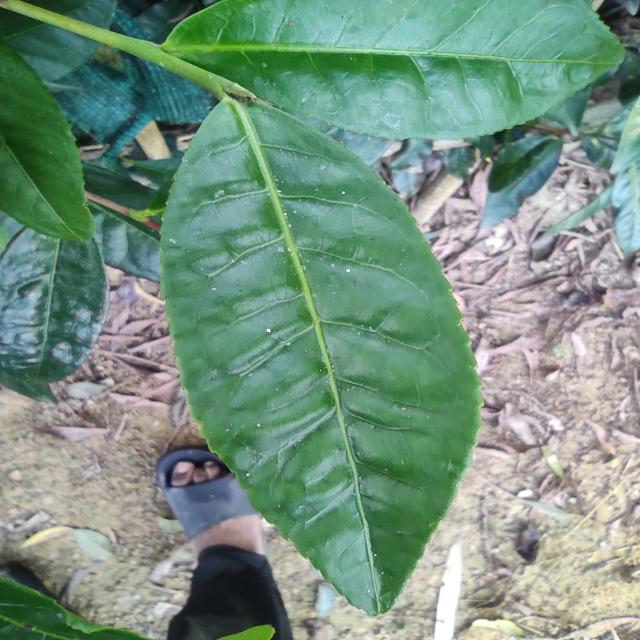Category D 7+ days, Not for Tea: (149, 81, 486, 624)
